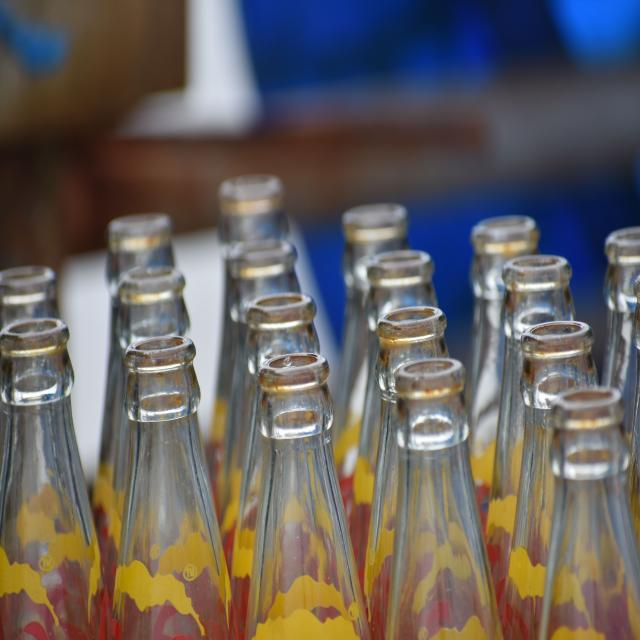Bottle: (112, 337, 237, 639), (246, 354, 369, 639), (0, 319, 109, 639), (224, 293, 319, 639), (386, 359, 501, 639), (487, 256, 574, 616), (348, 250, 437, 587), (504, 322, 597, 639), (206, 175, 288, 519), (364, 307, 448, 639), (92, 214, 173, 531), (538, 388, 639, 639), (218, 240, 299, 552), (468, 216, 539, 526), (333, 204, 407, 498), (603, 227, 639, 436), (93, 402, 129, 597), (0, 266, 59, 329), (628, 374, 639, 541)
